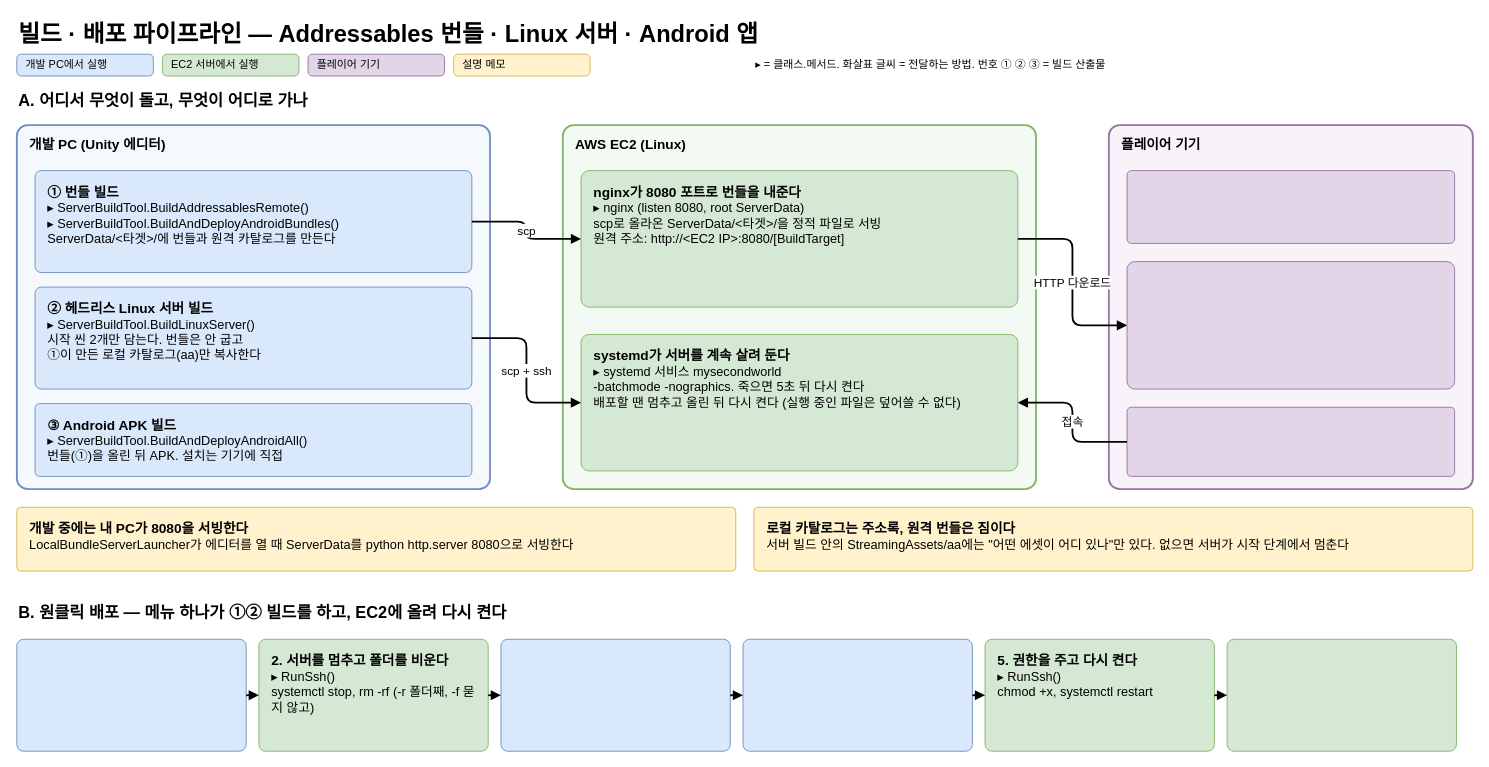
Image size: 1489x767. Some labels were removed from this diagram. The centre of each missing label's shape, as x and y in pixels:
1. 빌드: 번들 먼저, 서버 나중 ▸ BuildAllInternal() ① → ② 순서. 번들이 실패하면 서버는 굽지 않는다: (131,694)
3. 번들을 올린다 ▸ RunScp() ServerData/StandaloneLinux64 (①의 산출물): (615,694)
4. 서버 파일을 올린다 ▸ RunScp() Builds/Server (②의 산출물): (857,694)
6. 올라갔는지 확인한다 ▸ RunSsh() ls로 aa와 번들, df -h로 용량: (1341,694)
번들 동기화 ▸ ClientBundleSyncService 서버가 지시하면 라벨 단위로 받는다. 실패하면 2초 간격으로 3회 재시도한다: (1290,325)
서버에 접속 서버가 준비(ServerReady)된 뒤 스폰: (1290,441)
앱 (APK) 시작 씬 2개만 들어 있다: (1290,206)
